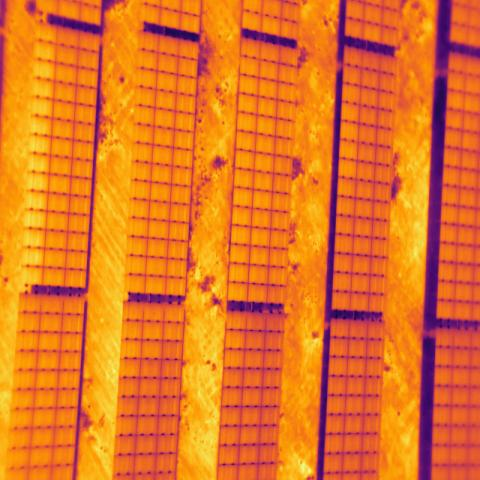fault: (22, 22, 57, 285)
